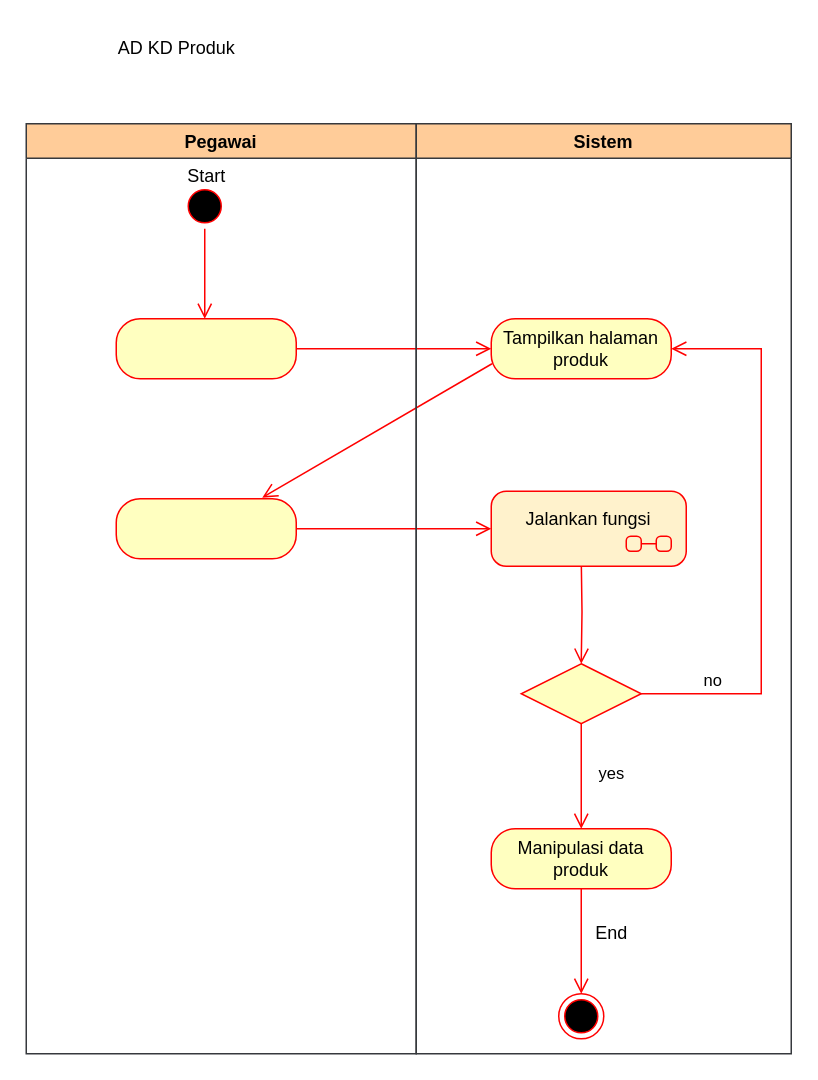
Image size: 818x1080. Some labels were removed from this diagram. Each missing label, with the centre of its shape:
"Buka halaman produk" belongs at point (205, 348).
"Pilih fungsi(Tambah dan ubah)" belongs at point (205, 528).
